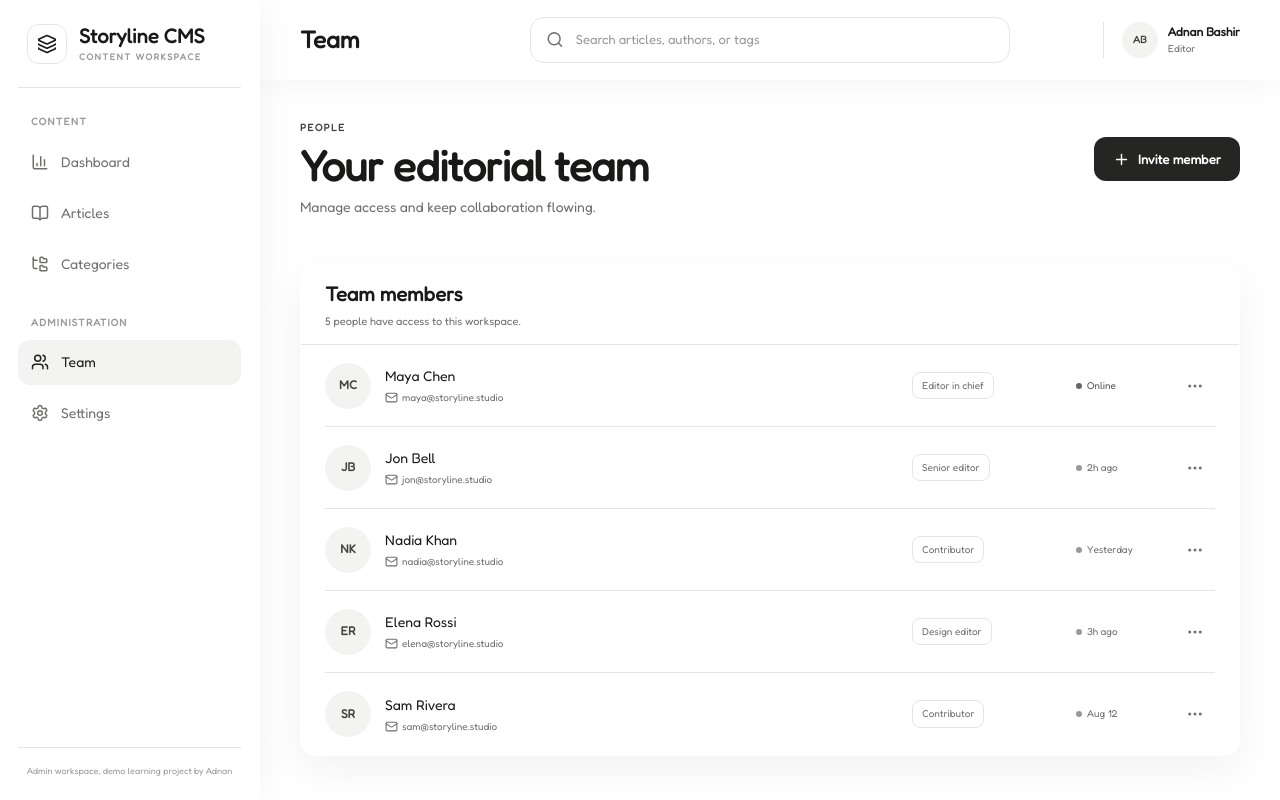
Test: Storyline CMS smoke test › changes a team member role and persists the team
The width and height of the screenshot is (1280, 800).
Expected: the heading "Your editorial team" is shown, [300,142,649,188]
Click the button named "Manage Jon Bell".
click(1195, 468)  # box [1175,448,1215,488]
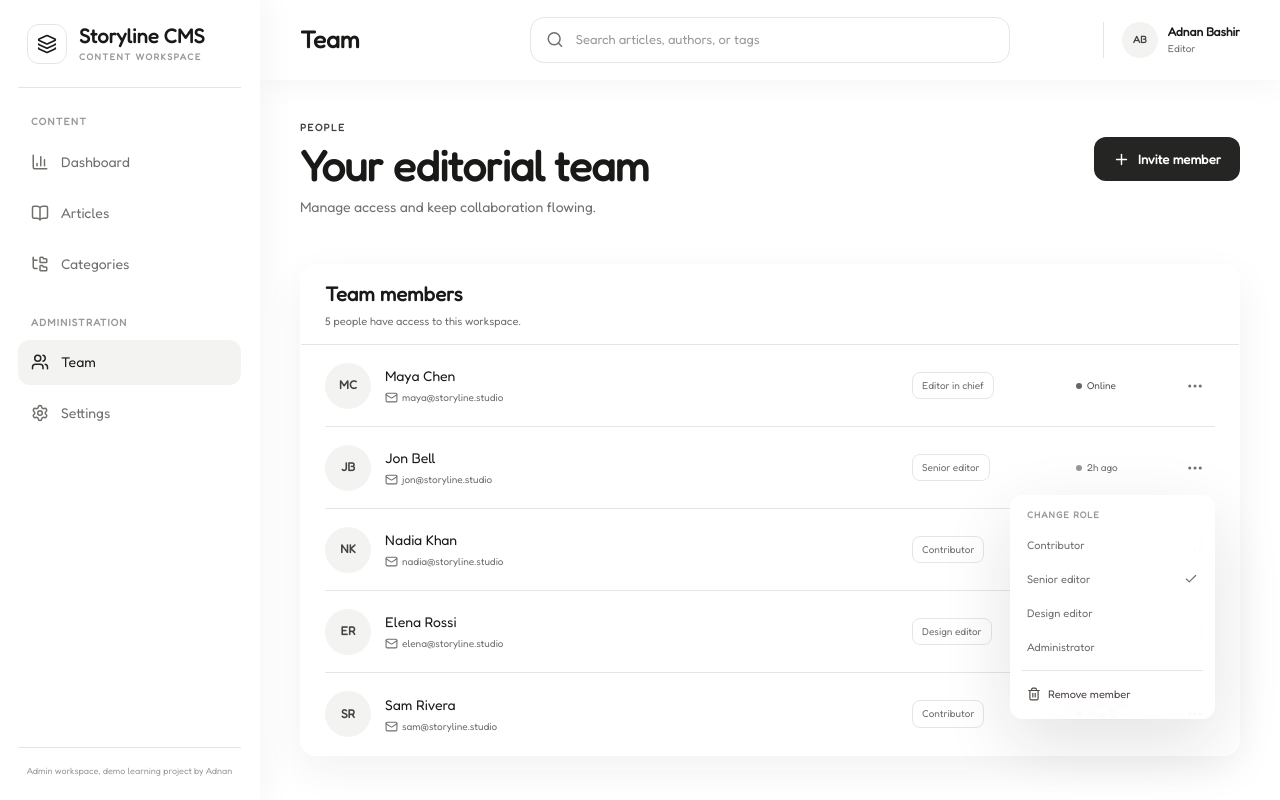
Click the menu item "Administrator".
click(1112, 647)  # box [1018,630,1207,664]
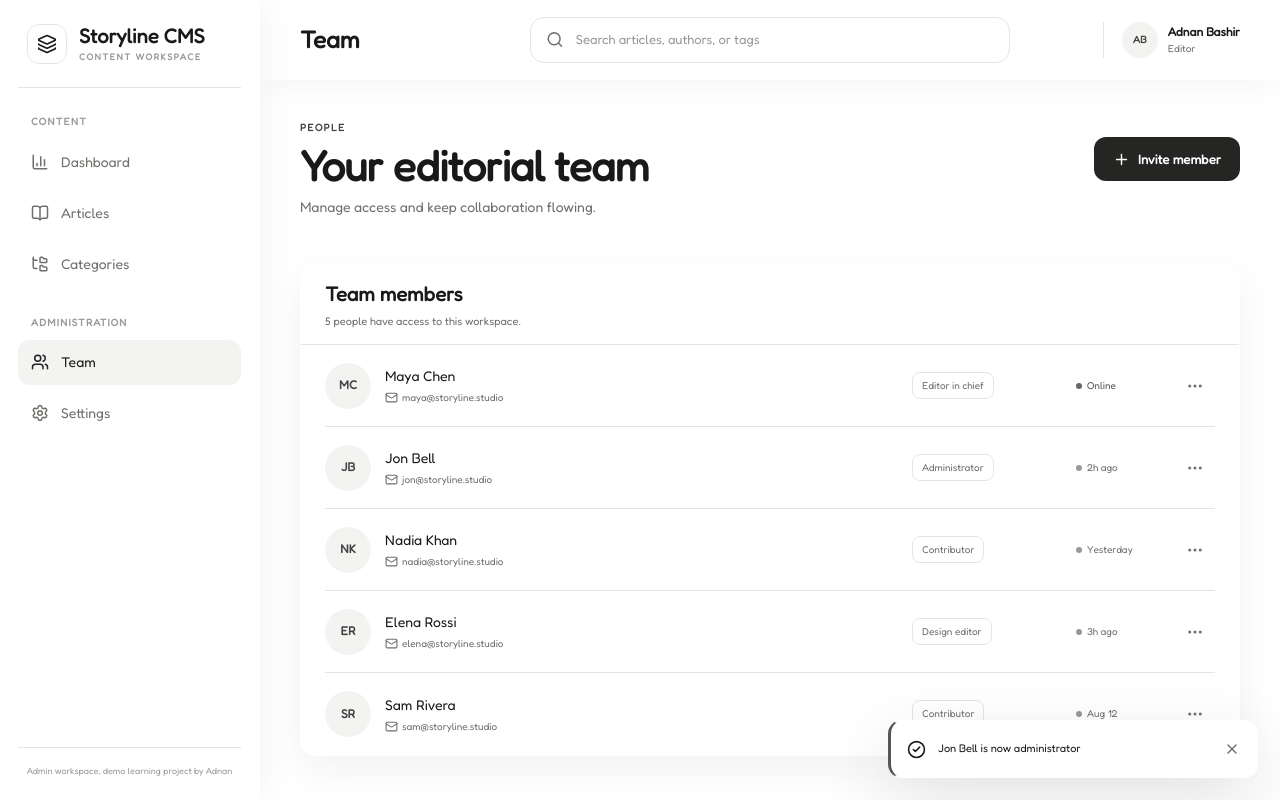
Expected: the text "Administrator" is shown, [912,454,994,481]
